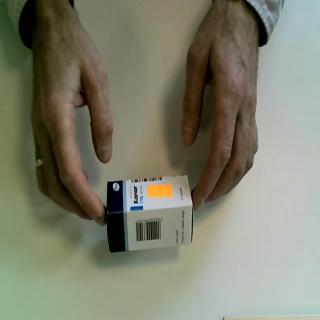xanor2mg: (104, 172, 196, 254)
